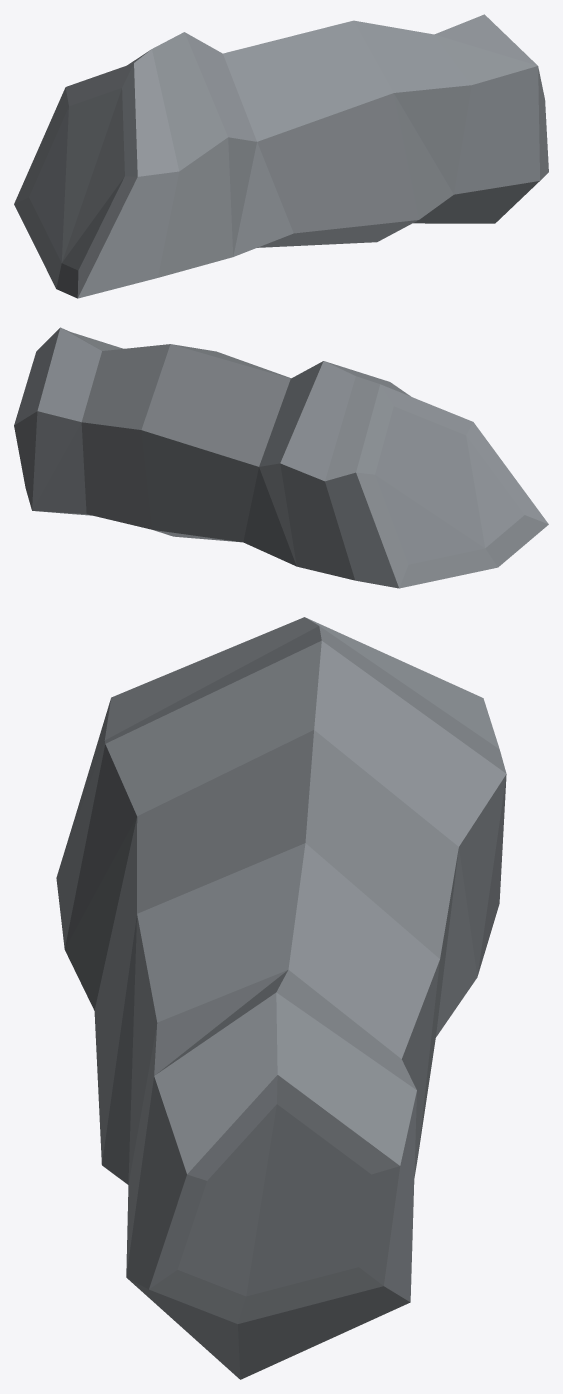
Rendered from Chr_ArmUpperLeft_Female_14_Static.fbx.
3 views of the same model, one above another, from view 1: azimuth 30°, elevation 25°; view 2: azimuth 150°, elevation 25°; view 3: azimuth 270°, elevation 25° (orthographic). The views are drawn at different scales.
Parts seen in each view (by area): view 1: Chr_ArmUpperLeft_Female_14_Static; view 2: Chr_ArmUpperLeft_Female_14_Static; view 3: Chr_ArmUpperLeft_Female_14_Static.
Boxes of the visible parts, x1,y1,x2,y2 form: Chr_ArmUpperLeft_Female_14_Static: [14, 14, 548, 298]; Chr_ArmUpperLeft_Female_14_Static: [14, 327, 548, 588]; Chr_ArmUpperLeft_Female_14_Static: [56, 617, 506, 1379].
Bounding box in the file's own units: 0.3535 × 0.1677 × 0.1455.
